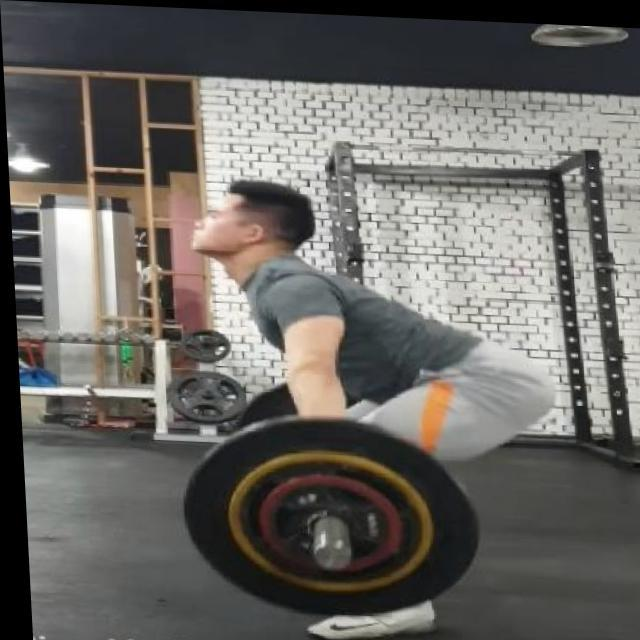barbell: (168, 404, 487, 621)
